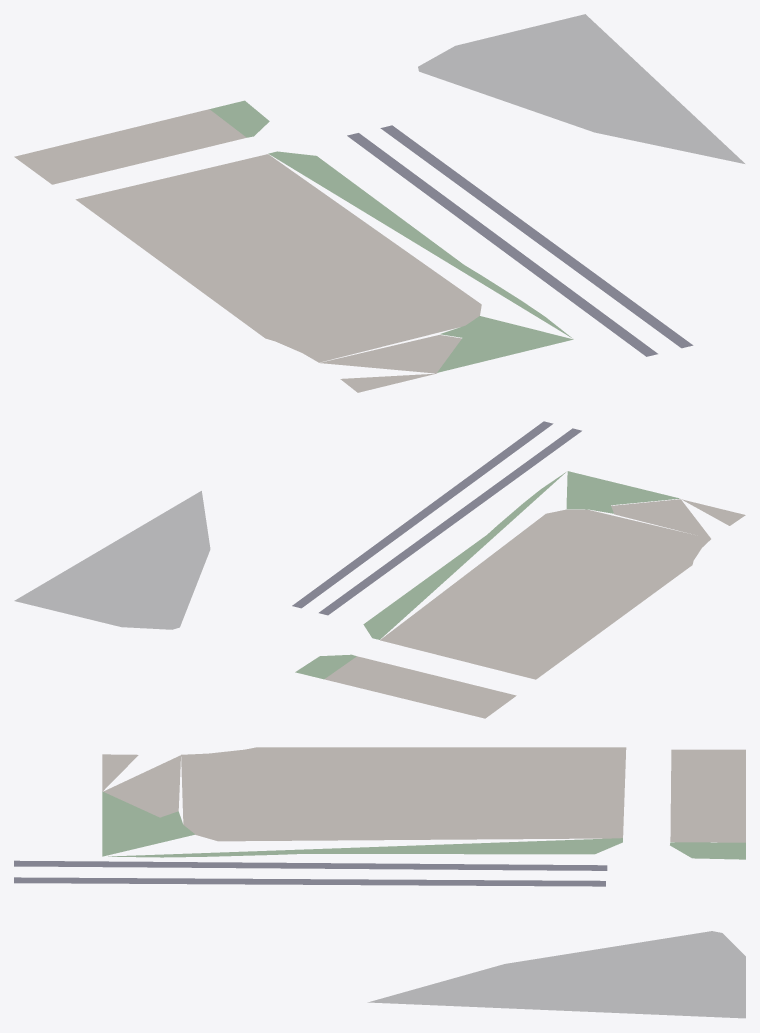
File: 128_70_mid.glb
The picture shows the model from 3 angles, top to bottom: view 1: azimuth 30°, elevation 25°; view 2: azimuth 150°, elevation 25°; view 3: azimuth 270°, elevation 25°; orthographic projection. The views are drawn at different scales.
Size of the model in its own units: 500 by 9.83 by 569.
